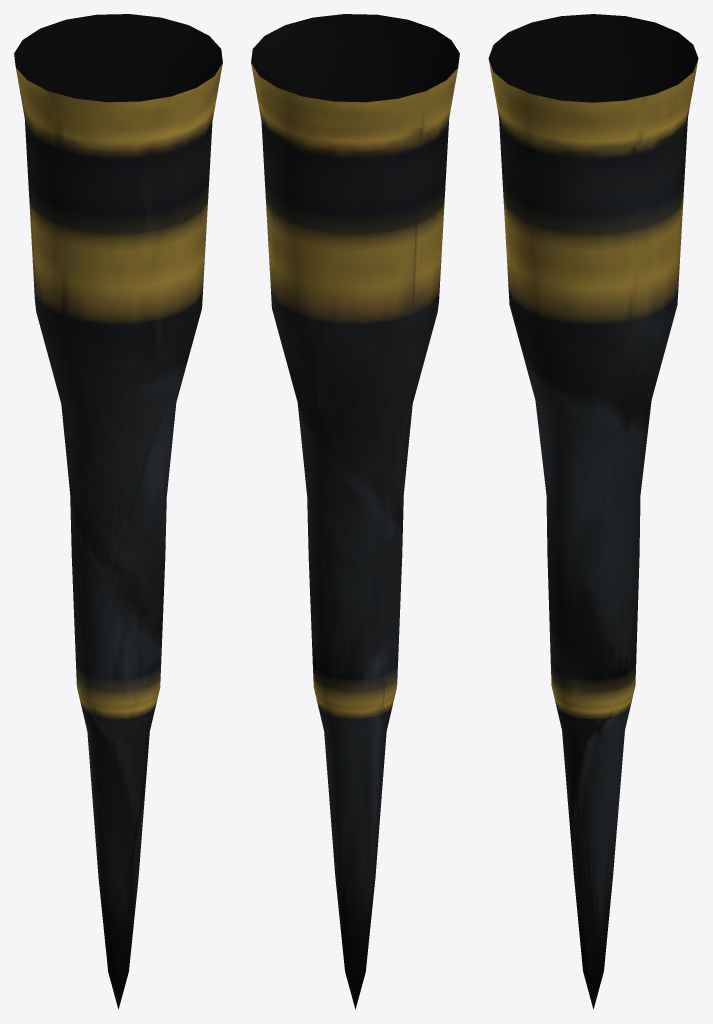
The model's file is torch.obj.
The picture shows the model from 3 angles, left to right: view 1: azimuth 30°, elevation 25°; view 2: azimuth 150°, elevation 25°; view 3: azimuth 270°, elevation 25°; orthographic projection.
Parts seen in each view (by area): view 1: pCone1; view 2: pCone1; view 3: pCone1.
Part boxes in pixels (box(x1,y1,x2,y2)): pCone1: box(14, 14, 222, 1009); pCone1: box(251, 14, 459, 1009); pCone1: box(488, 14, 698, 1009).
Bounding box in the file's own units: 0.06 × 0.3 × 0.06.
1 material, 1 textured.
